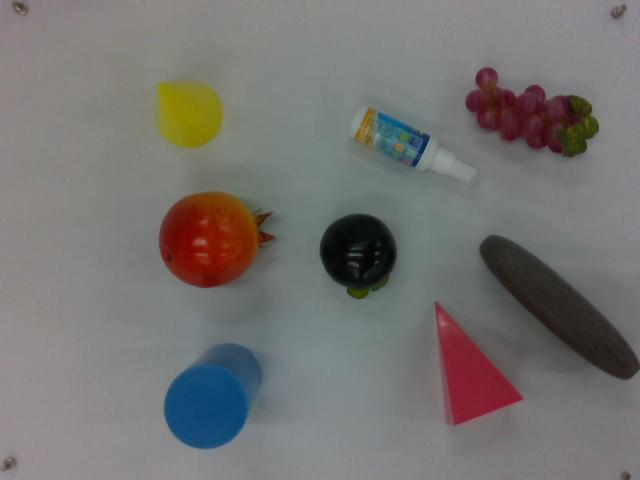cone: (152, 73, 225, 154)
cylinder: (163, 337, 264, 450)
detergent: (348, 100, 475, 190)
glassescase: (477, 230, 640, 385)
grape: (463, 65, 597, 159)
mangosteen: (319, 211, 398, 299)
pomegranate: (158, 189, 276, 292)
pyramid: (430, 297, 524, 428)
